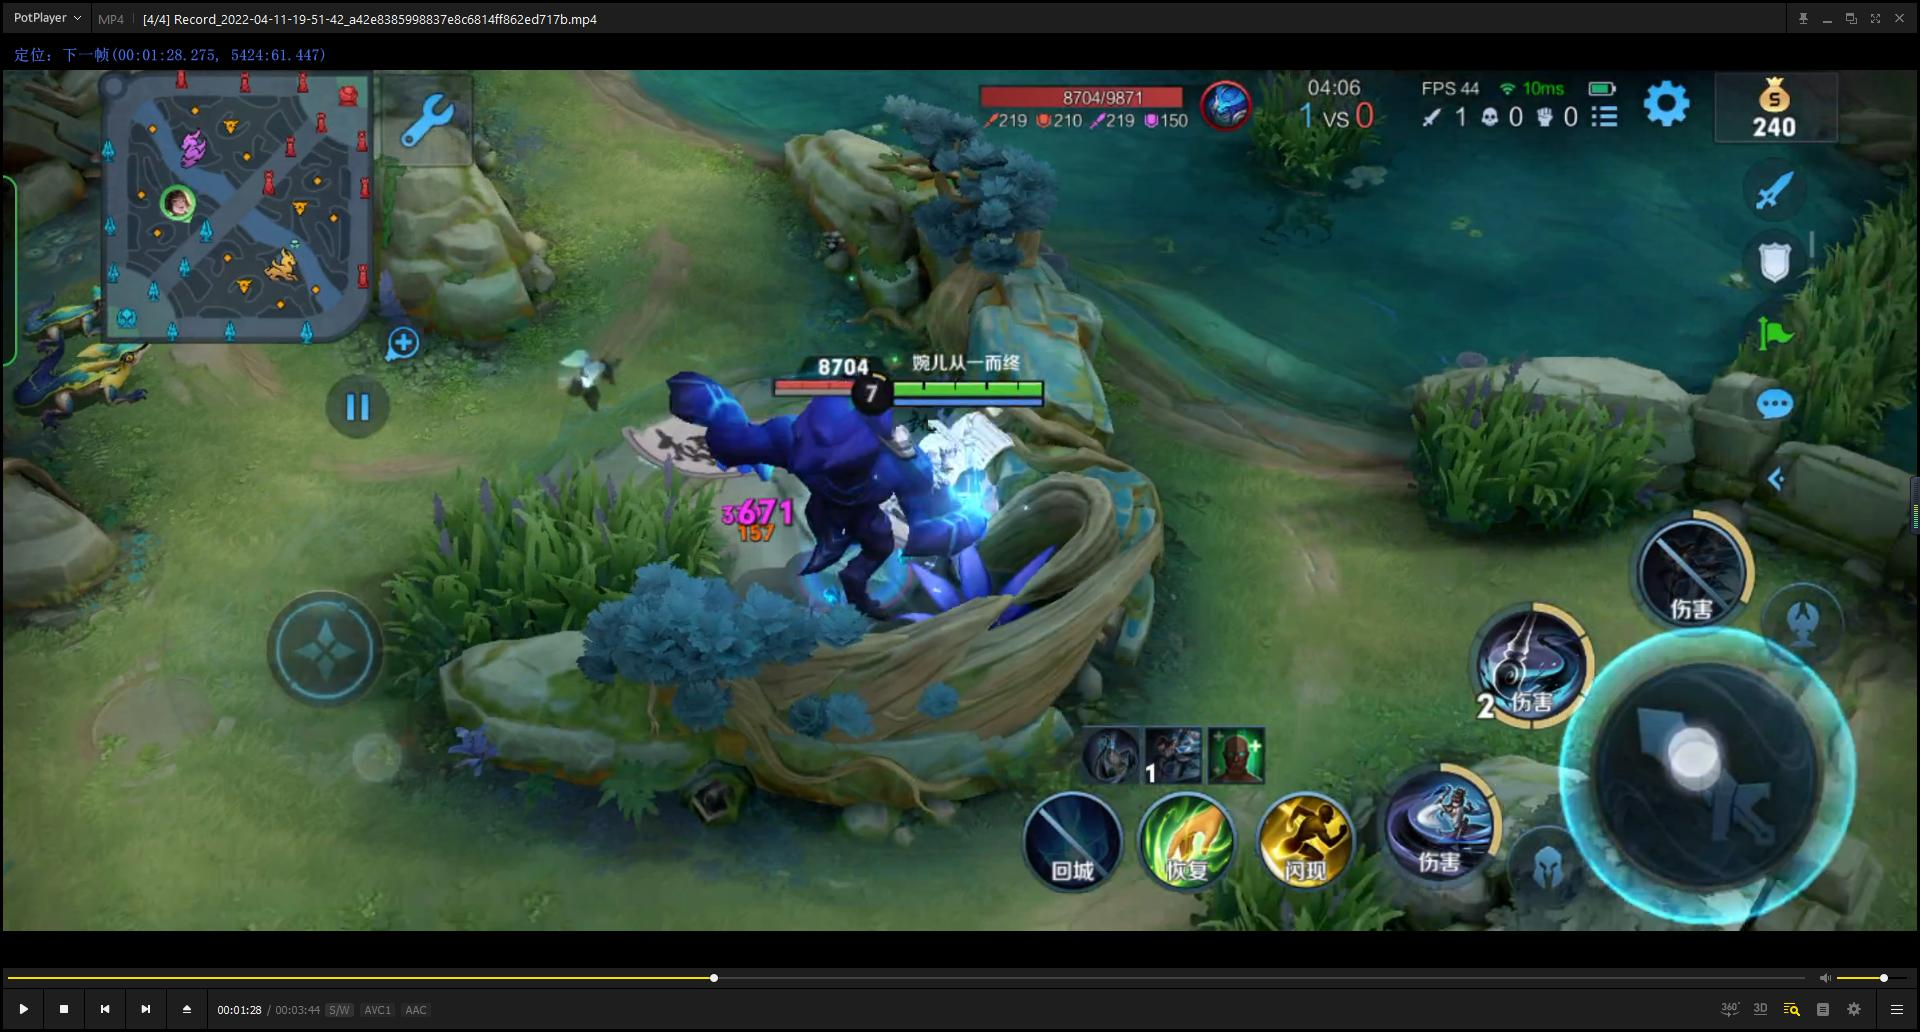Buff: (682, 346, 995, 625)
Hero: (903, 412, 1029, 586)
Lizard: (9, 344, 194, 423), (11, 269, 119, 341)
